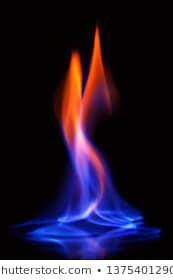fire: (54, 43, 114, 222)
